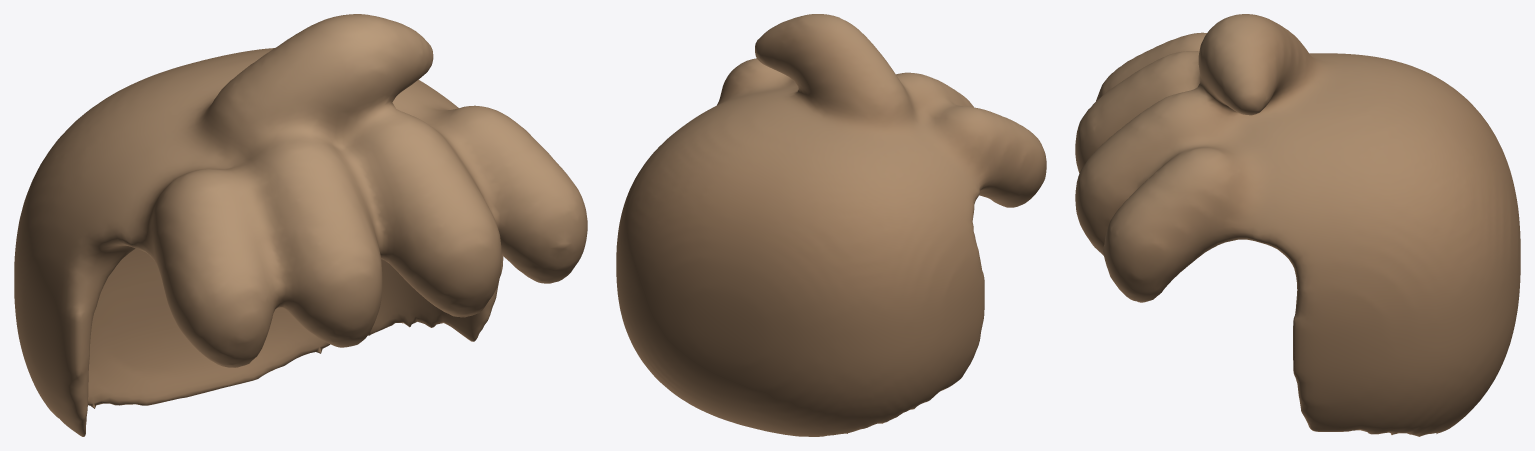
Rendered from hair_student.glb.
The picture shows the model from 3 angles, left to right: view 1: azimuth 30°, elevation 25°; view 2: azimuth 150°, elevation 25°; view 3: azimuth 270°, elevation 25°; orthographic projection. The views are drawn at different scales.
Visible parts, largest first — view 1: world; view 2: world; view 3: world.
Part boxes in pixels (x1=…): world: x1=14, y1=14, x2=587, y2=436; world: x1=616, y1=14, x2=1046, y2=436; world: x1=1075, y1=14, x2=1520, y2=436.
Size of the model in its own units: 0.5893 by 0.5797 by 0.598.
